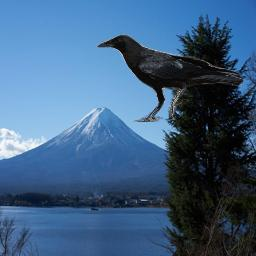Crow: (96, 33, 243, 122)
